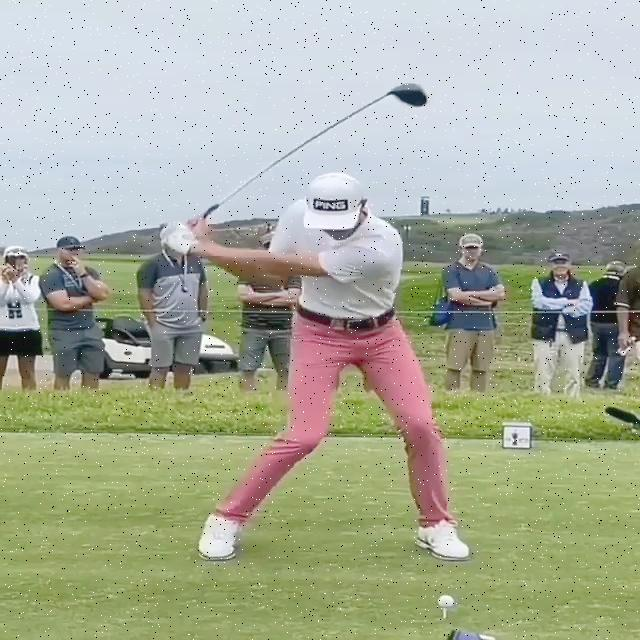golf ball: (436, 595, 455, 609)
golf club-handle: (203, 83, 428, 220)
golf club-head: (391, 82, 428, 107)
